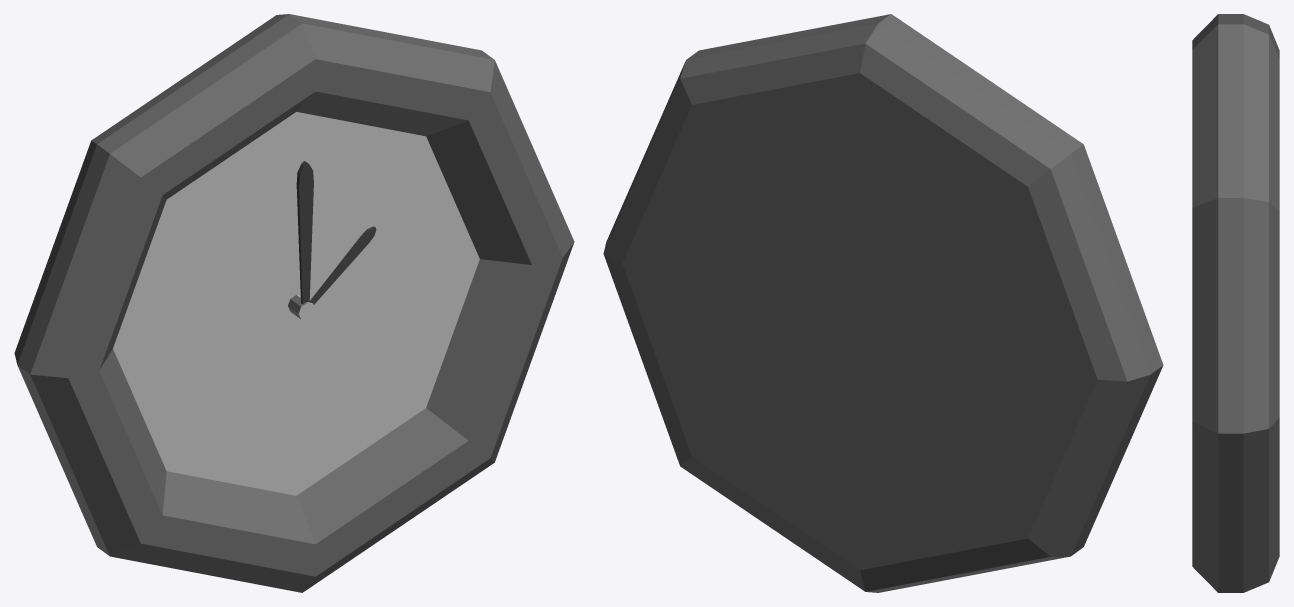
The model's file is Clock.fbx.
3 views of the same model, side by side, from view 1: azimuth 30°, elevation 25°; view 2: azimuth 150°, elevation 25°; view 3: azimuth 270°, elevation 25° (orthographic).
Parts seen in each view (by area): view 1: Clock, ClockPointerMin, ClockPointerHour; view 2: Clock; view 3: Clock.
Part boxes in pixels (bbox=[...]): Clock: bbox=[14, 14, 574, 592]; ClockPointerMin: bbox=[296, 161, 313, 303]; ClockPointerHour: bbox=[309, 226, 376, 304]; Clock: bbox=[603, 14, 1163, 592]; Clock: bbox=[1192, 14, 1279, 592].
Size of the model in its own units: 0.6655 by 0.6655 by 0.0945.
Materials: 1 (1 with a texture image).
